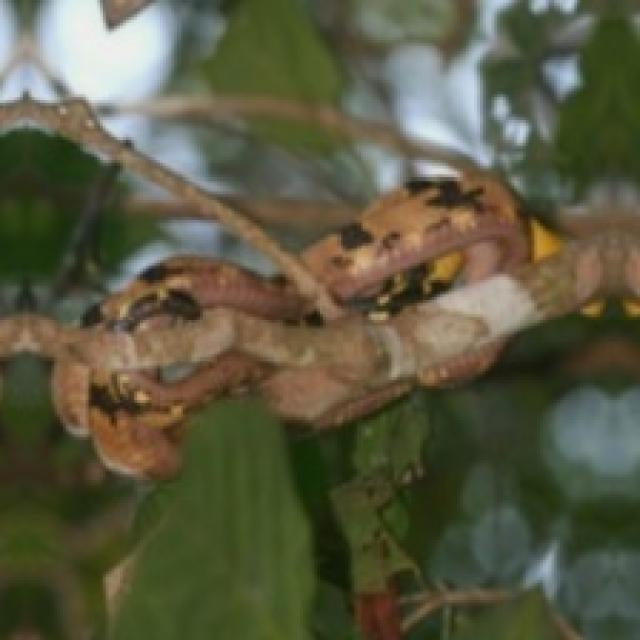dog-toothed cat snake: (0, 171, 637, 477)
